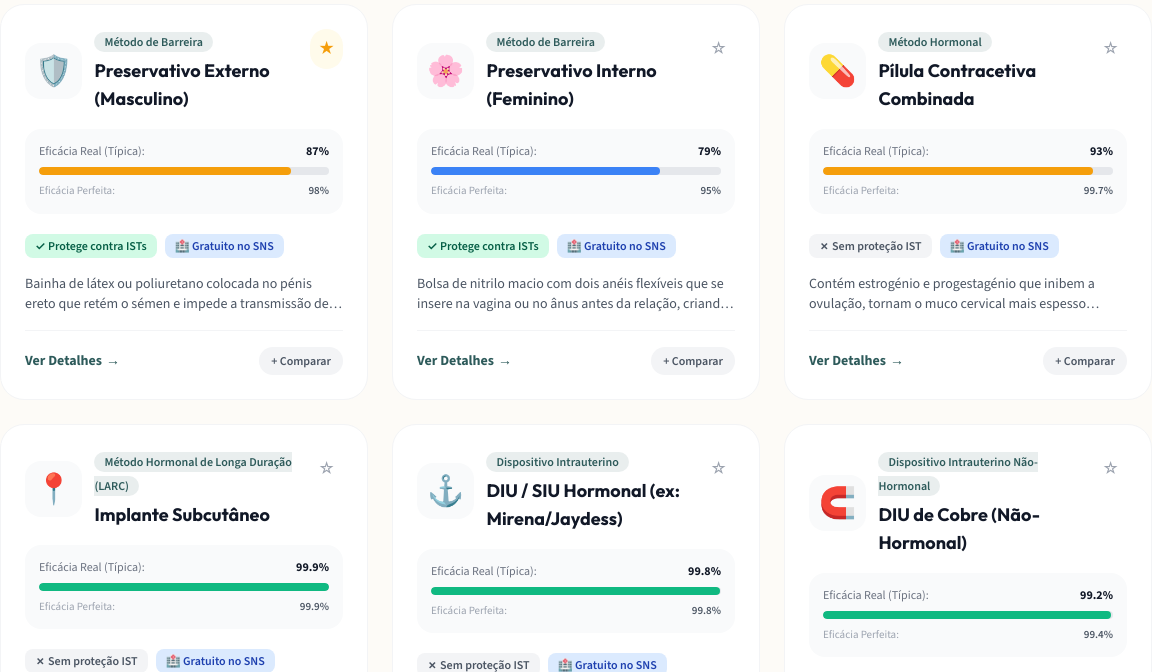
Test: ContraceptiveComparator › renders comparison table with correct headers
The image size is (1152, 672).
(page scrolled)
Click the button "+ Comparar" below "98" at (301, 360), box [259, 346, 343, 374]
(page scrolled)
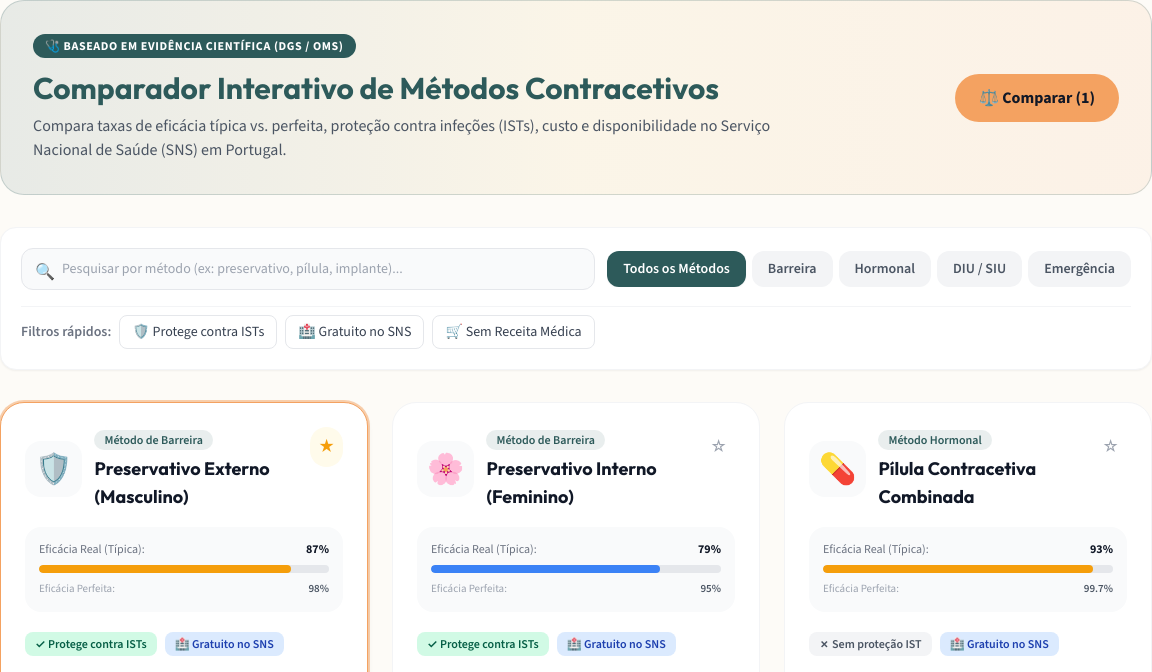
Click the button "⚖️ Comparar (1)" at (1037, 98), box [955, 74, 1119, 122]
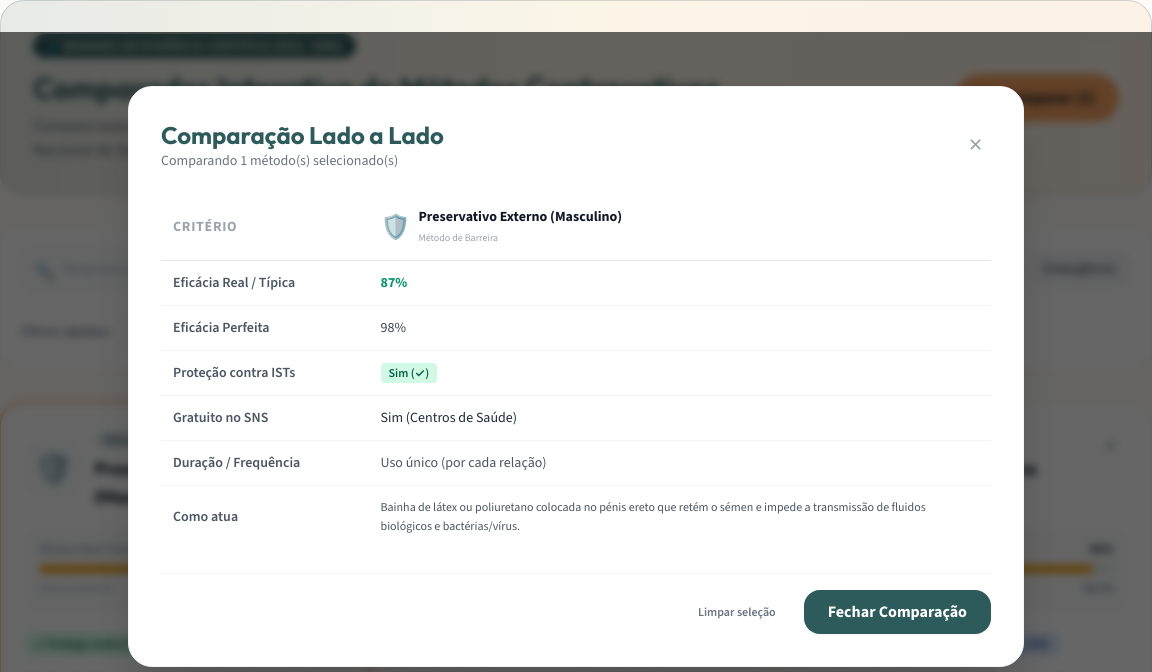
Now the number of column headings is 2, box [161, 194, 368, 260]; [368, 194, 991, 260]
Now the column heading "Critério" is shown, box [161, 194, 368, 260]
